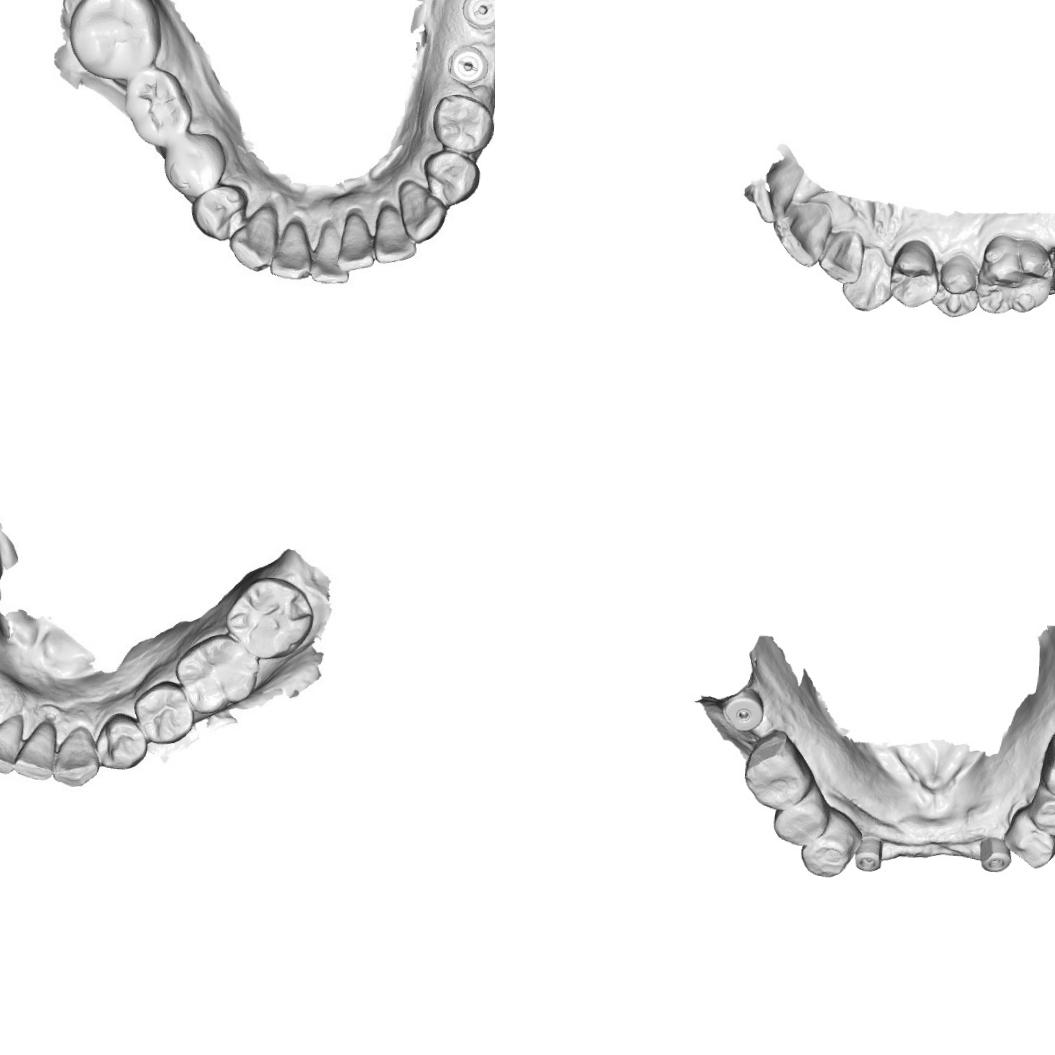canine: (841, 244, 892, 314), (226, 204, 278, 272), (394, 178, 446, 244), (53, 725, 98, 790)
implant: (716, 684, 773, 744), (975, 831, 1015, 874), (851, 836, 885, 877)
implant_minus: (446, 47, 486, 84), (459, 0, 495, 32)
incisor: (772, 198, 836, 270), (750, 163, 806, 227), (370, 204, 420, 266), (815, 227, 866, 286), (306, 224, 350, 288), (334, 211, 376, 274), (16, 716, 55, 783), (271, 221, 313, 281), (0, 716, 27, 775)
molar: (65, 0, 166, 84), (225, 572, 320, 659), (172, 631, 257, 718), (973, 231, 1055, 317), (119, 64, 195, 148), (742, 736, 815, 812)
premolar: (157, 133, 226, 200), (130, 680, 196, 749), (430, 89, 494, 156), (885, 234, 941, 310), (188, 181, 250, 246), (768, 784, 830, 846), (420, 150, 484, 208), (931, 250, 982, 320), (800, 815, 855, 877), (93, 712, 148, 773), (1005, 807, 1055, 868), (1028, 786, 1055, 835)
